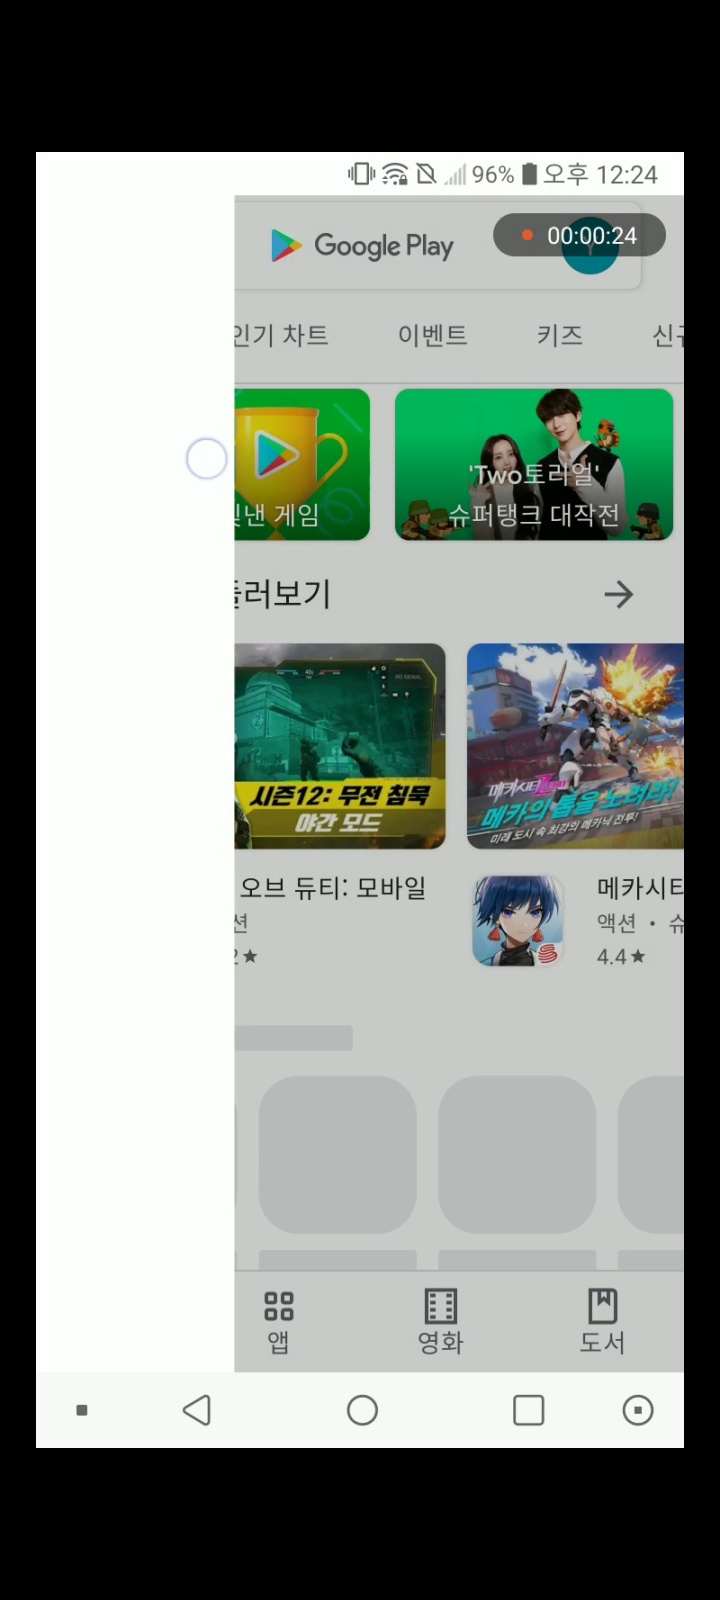Cursor: (185, 437, 230, 482)
